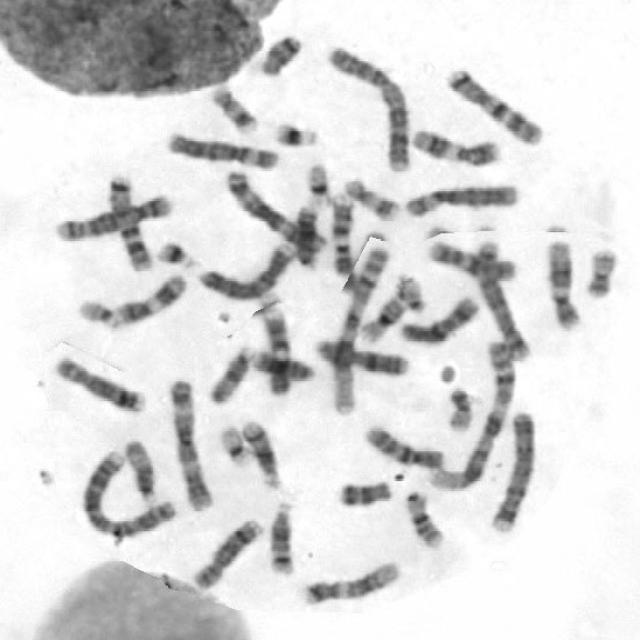A1: (422, 340, 518, 492), (327, 241, 391, 417)
A2: (322, 41, 413, 173), (77, 447, 179, 539)
A3: (221, 165, 327, 258), (166, 375, 215, 511)
B4: (485, 406, 537, 534), (194, 239, 295, 302)
B5: (470, 237, 532, 362), (51, 190, 174, 243)
C10: (359, 421, 446, 471), (424, 237, 517, 282)
C11: (110, 269, 189, 329), (408, 123, 501, 169)
C12: (296, 558, 402, 609), (542, 236, 584, 330)
C6: (162, 129, 280, 172), (400, 180, 520, 220)
C7: (442, 63, 546, 147), (104, 172, 154, 271)
C8: (50, 352, 147, 416), (187, 513, 265, 591)
C9: (258, 306, 293, 398), (327, 189, 356, 275)
D13: (249, 347, 316, 381), (291, 201, 319, 269)
D14: (237, 416, 282, 491), (264, 498, 297, 578)
D15: (204, 341, 256, 406), (121, 436, 158, 504)
E16: (355, 289, 412, 343), (402, 487, 446, 549)
E17: (340, 174, 400, 222), (208, 81, 259, 136)
E18: (254, 31, 304, 78), (332, 477, 394, 510)
F19: (216, 421, 253, 469), (302, 159, 333, 205)
F20: (582, 244, 618, 300), (444, 384, 476, 434)
G21: (153, 237, 200, 270), (270, 118, 320, 149)
G22: (75, 295, 119, 329), (392, 274, 428, 314)
X: (396, 292, 481, 346), (310, 334, 411, 379)
